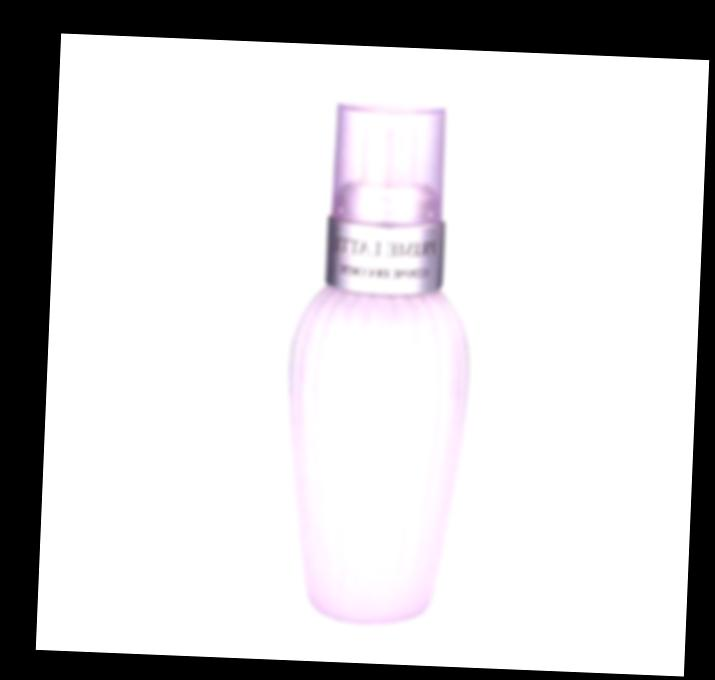cosmetic: (283, 95, 467, 632)
